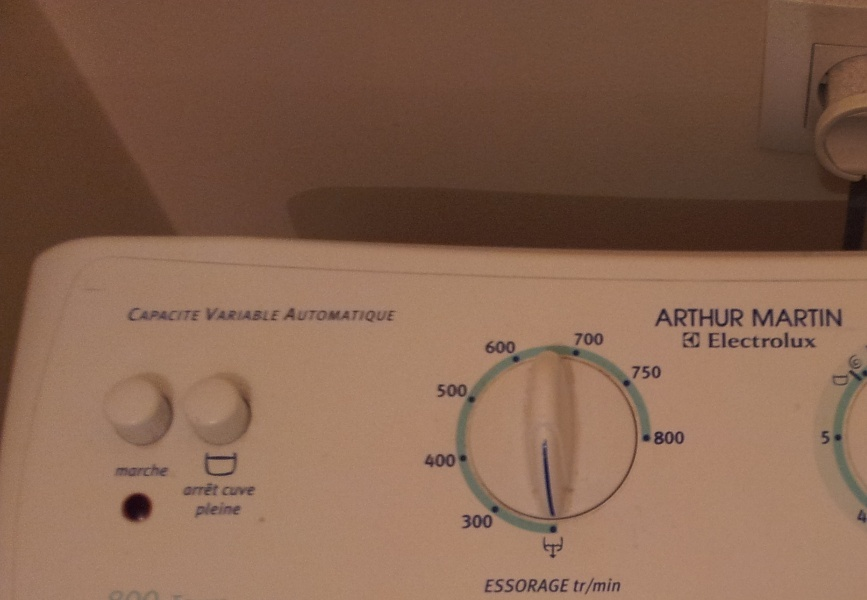text: (657, 303, 672, 328), (673, 303, 688, 328), (689, 303, 704, 328), (705, 303, 720, 328), (721, 303, 736, 328), (753, 306, 768, 329), (769, 306, 784, 329), (785, 306, 800, 329), (801, 306, 816, 329), (817, 306, 832, 329), (721, 332, 736, 351), (737, 332, 752, 351), (753, 332, 768, 351), (769, 332, 784, 351), (785, 332, 800, 351), (801, 332, 816, 351), (577, 577, 592, 596), (593, 577, 608, 596), (609, 577, 624, 596), (209, 501, 224, 520), (225, 501, 240, 520), (833, 306, 845, 329), (465, 513, 480, 531), (194, 501, 208, 520), (657, 429, 672, 446), (449, 382, 464, 399), (433, 452, 448, 469), (737, 303, 747, 328), (707, 332, 720, 351), (289, 308, 304, 324), (305, 308, 320, 324), (321, 308, 336, 324), (337, 308, 352, 324), (353, 308, 368, 324), (369, 308, 384, 324), (497, 339, 512, 355), (577, 331, 592, 347), (129, 307, 144, 323), (145, 307, 160, 323), (161, 307, 176, 323), (177, 307, 192, 323), (641, 364, 656, 380), (129, 462, 144, 478), (145, 462, 160, 478), (193, 482, 208, 498), (854, 502, 864, 526), (818, 429, 832, 446), (209, 307, 224, 322), (225, 307, 240, 322), (241, 307, 256, 322), (257, 307, 272, 322), (497, 579, 512, 594), (513, 579, 528, 594), (529, 579, 544, 594), (545, 579, 560, 594), (673, 429, 686, 446), (481, 513, 493, 531), (436, 382, 448, 399), (593, 331, 605, 347), (209, 482, 221, 498), (225, 486, 240, 498), (241, 486, 256, 498), (385, 308, 396, 324), (485, 339, 496, 355), (117, 462, 128, 478), (273, 307, 284, 322), (485, 579, 496, 594), (630, 364, 640, 380), (561, 579, 571, 594), (424, 452, 432, 469), (449, 452, 457, 469), (193, 307, 201, 323), (161, 462, 169, 478), (184, 482, 192, 498), (513, 339, 519, 355), (657, 364, 662, 380), (460, 513, 464, 531), (465, 382, 469, 399), (285, 308, 288, 324), (241, 501, 243, 520), (654, 429, 656, 446), (655, 303, 656, 328), (222, 486, 224, 498), (257, 486, 259, 498), (865, 502, 866, 526), (751, 306, 752, 329), (817, 332, 818, 351), (575, 577, 576, 596), (575, 331, 576, 347), (207, 307, 208, 322)
